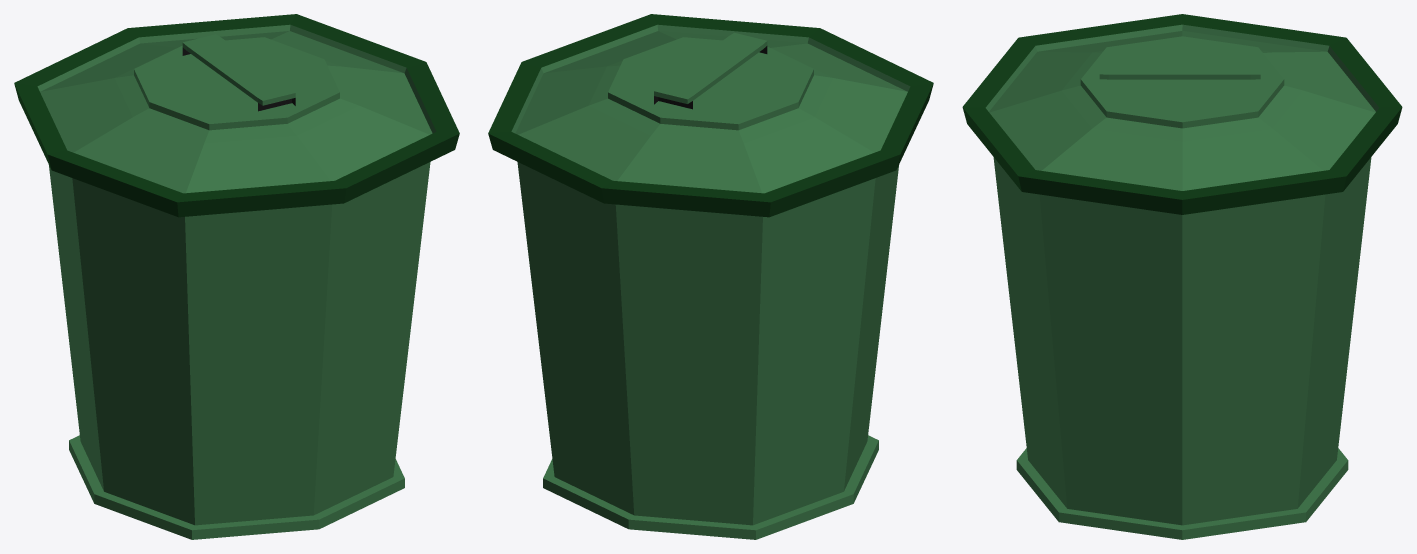
Rendered from Papelera.fbx.
3 views of the same model, side by side, from view 1: azimuth 30°, elevation 25°; view 2: azimuth 150°, elevation 25°; view 3: azimuth 270°, elevation 25° (orthographic).
Parts seen in each view (by area): view 1: Cube; view 2: Cube; view 3: Cube.
Part boxes in pixels (<box>): Cube: <box>14,14,459,539</box>; Cube: <box>488,14,933,539</box>; Cube: <box>962,14,1402,539</box>.
Size of the model in its own units: 454 by 460 by 454.
